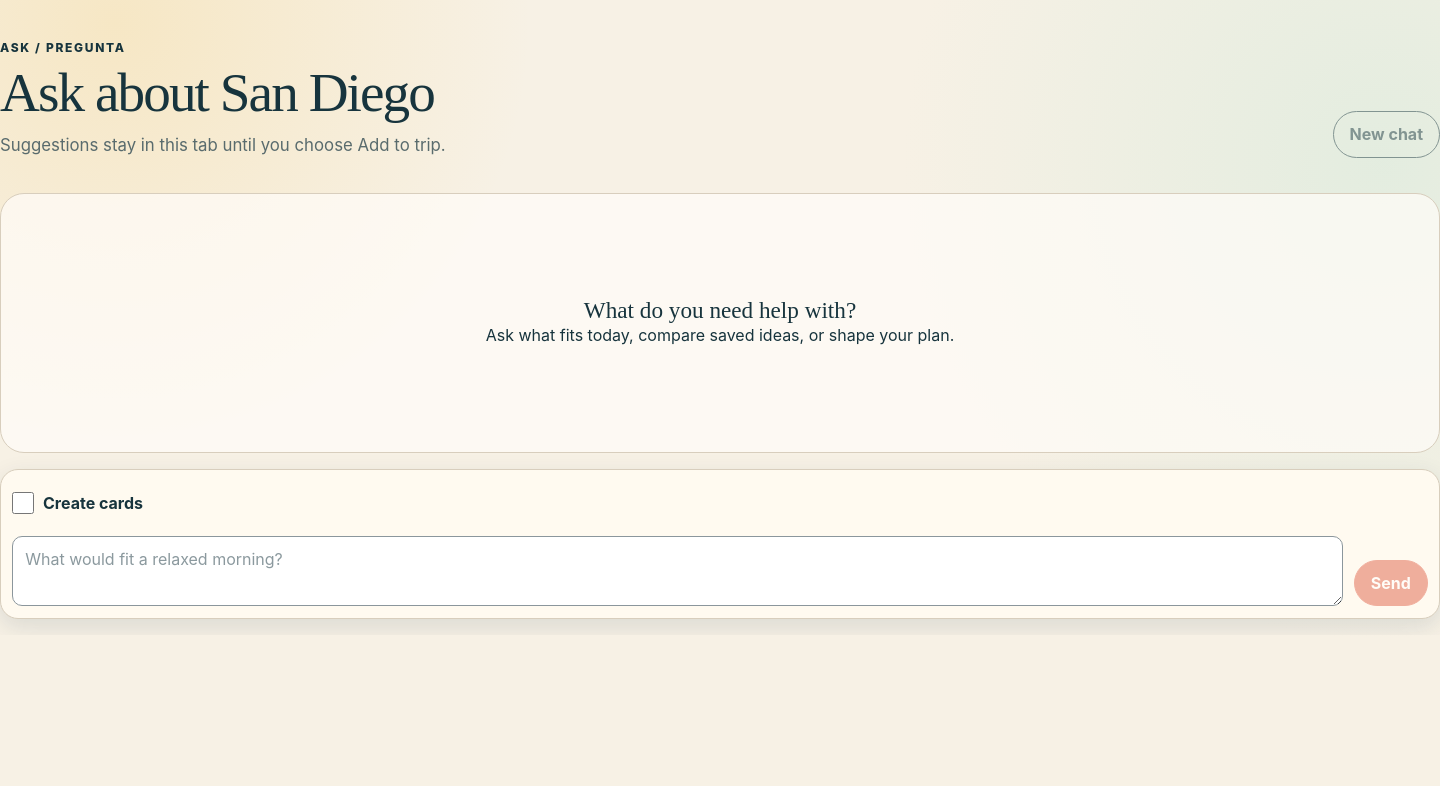
Scenario: renders a batch, explains unresolved names, and adds all new cards together
The width and height of the screenshot is (1440, 786).
In the text box named "Ask about this trip": (678,571) top-left (12, 536), bottom-right (1343, 606), type "Please add La Jolla Cove, La Puerta, and Garage Kitchen + Bar from these notes."
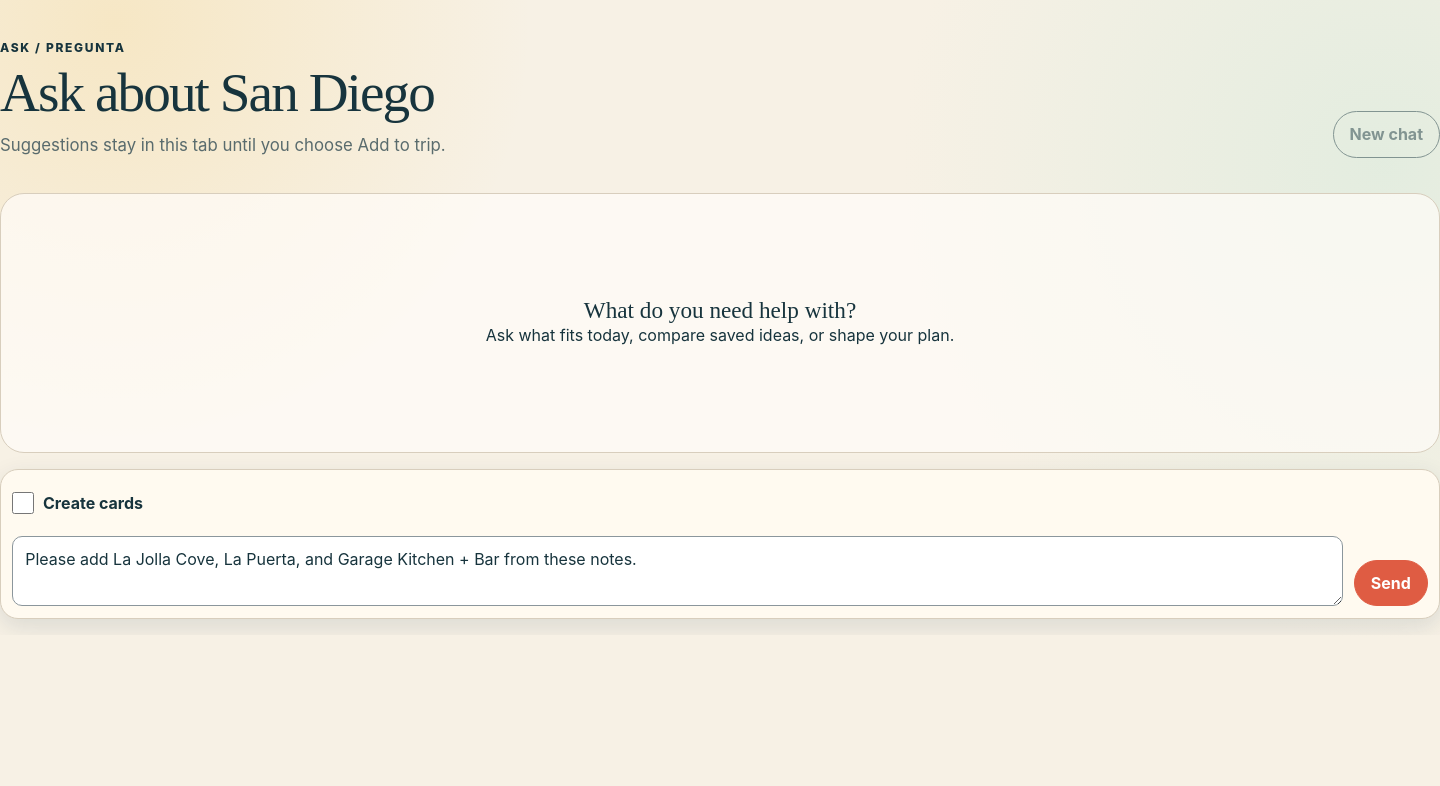
Press Enter in the text box named "Ask about this trip", box top-left (12, 536), bottom-right (1343, 606)
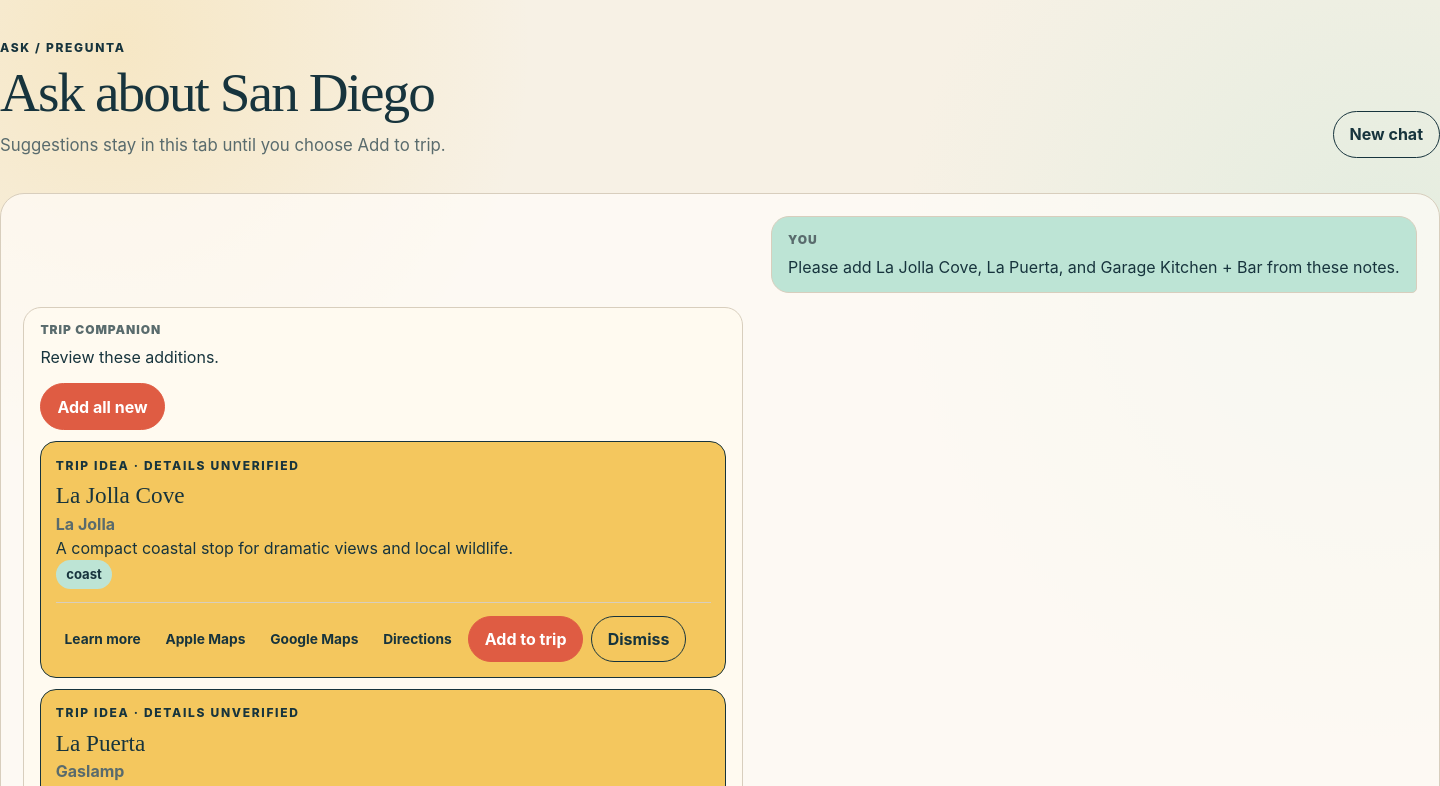
Expected: the text "Review these additions." is shown, top-left (40, 347), bottom-right (219, 367)
Click the button "Add all new": (102,407) top-left (40, 383), bottom-right (165, 430)
(page scrolled)
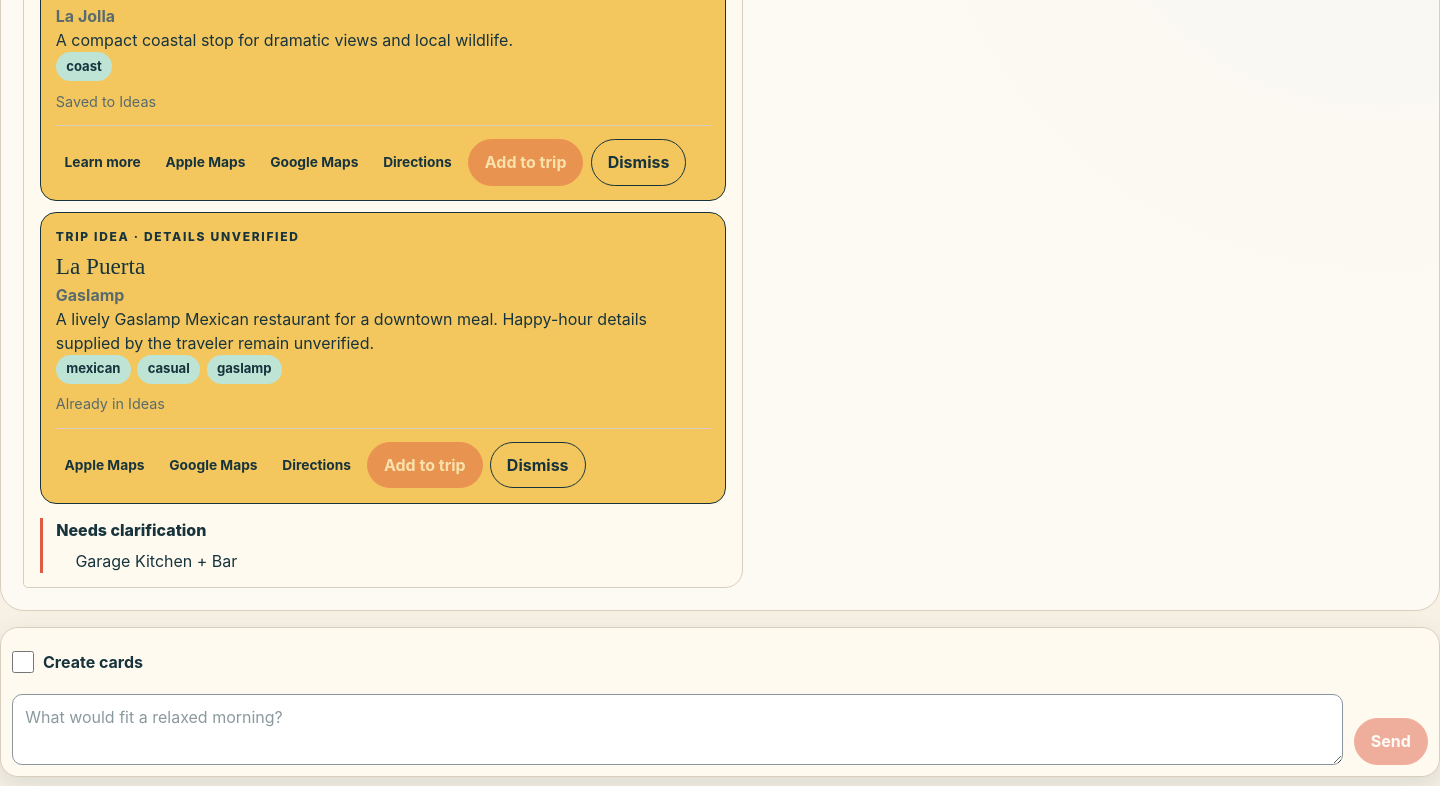
Expected: the text "Saved to Ideas" is shown, top-left (56, 93), bottom-right (156, 110)
Expected: the text "Already in Ideas" is shown, top-left (56, 396), bottom-right (165, 412)
